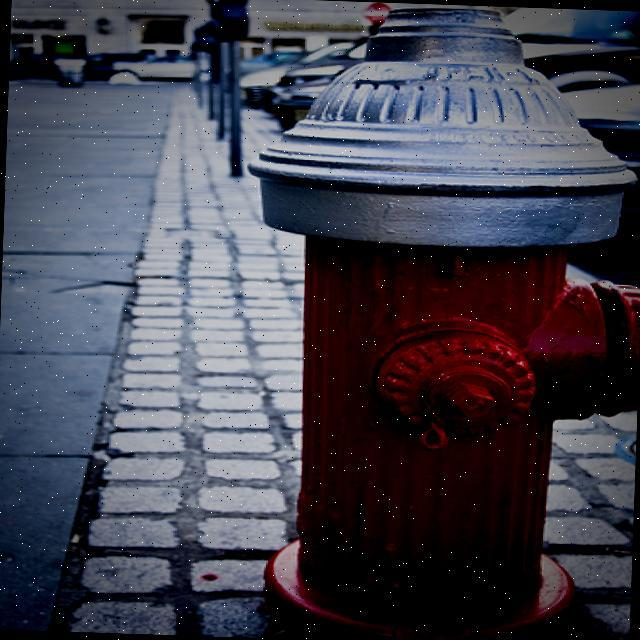fire_hydrant: (234, 0, 640, 640)
